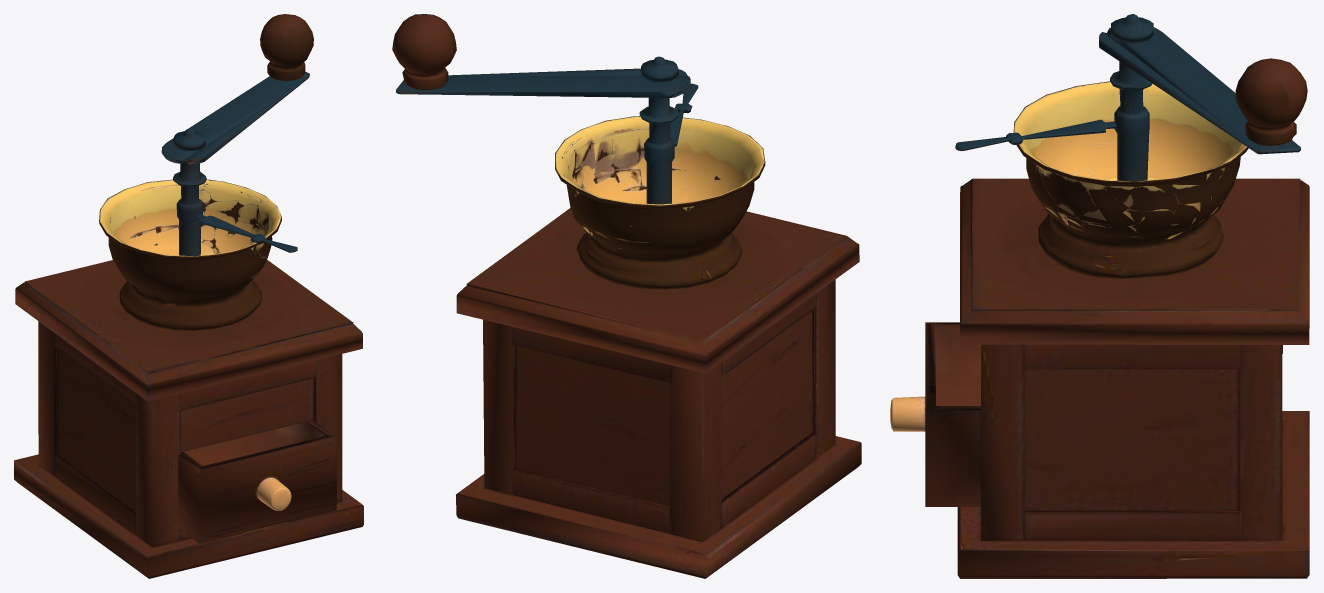
File: hand-grinder.glb
3 views of the same model, side by side, from view 1: azimuth 30°, elevation 25°; view 2: azimuth 150°, elevation 25°; view 3: azimuth 270°, elevation 25° (orthographic). The views are drawn at different scales.
Bounding box in the file's own units: 0.6787 × 0.9517 × 0.6626.
Materials: 1 (1 with a texture image).
